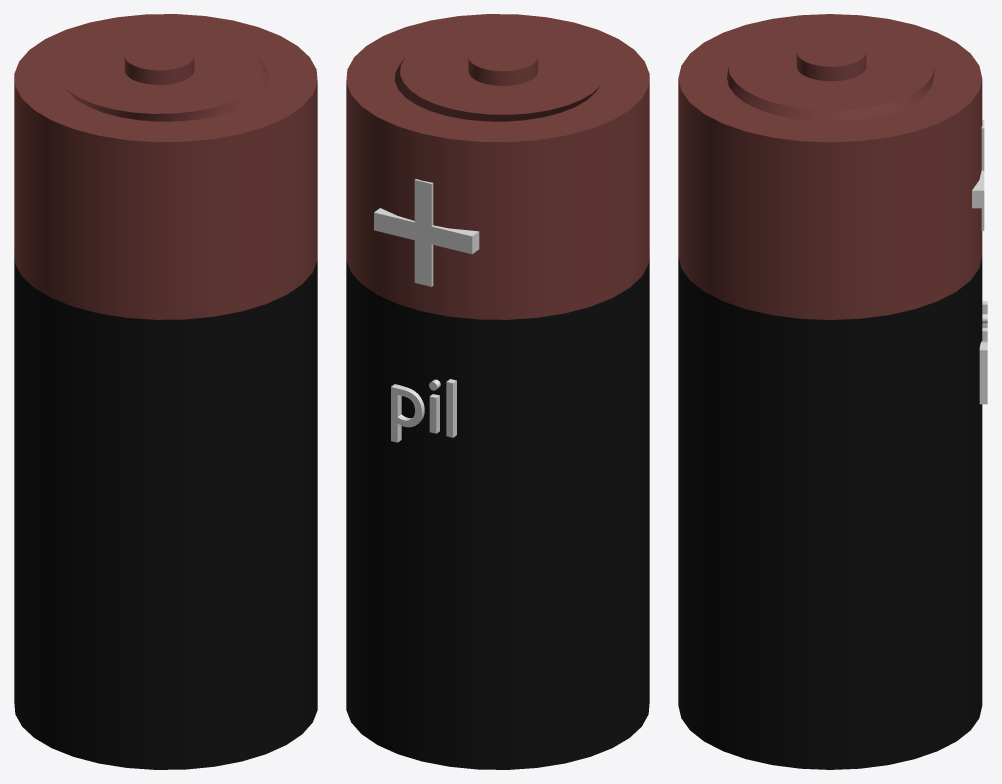
File: pil.fbx
3 views of the same model, side by side, from view 1: azimuth 30°, elevation 25°; view 2: azimuth 150°, elevation 25°; view 3: azimuth 270°, elevation 25° (orthographic).
Visible parts, largest first — view 1: Cylinder.001, Cylinder; view 2: Cylinder.001, Cylinder, Text, Text.001; view 3: Cylinder.001, Cylinder, Text.001, Text.
Part boxes in pixels (<box>): Cylinder.001: <box>14,254,317,769</box>; Cylinder: <box>14,14,317,319</box>; Cylinder.001: <box>346,254,649,769</box>; Cylinder: <box>346,14,649,319</box>; Text: <box>374,179,479,286</box>; Text.001: <box>391,379,456,442</box>; Cylinder.001: <box>678,256,982,769</box>; Cylinder: <box>678,14,982,319</box>; Text.001: <box>979,301,987,404</box>; Text: <box>972,120,984,230</box>.
Size of the model in its own units: 126 by 299 by 129.
